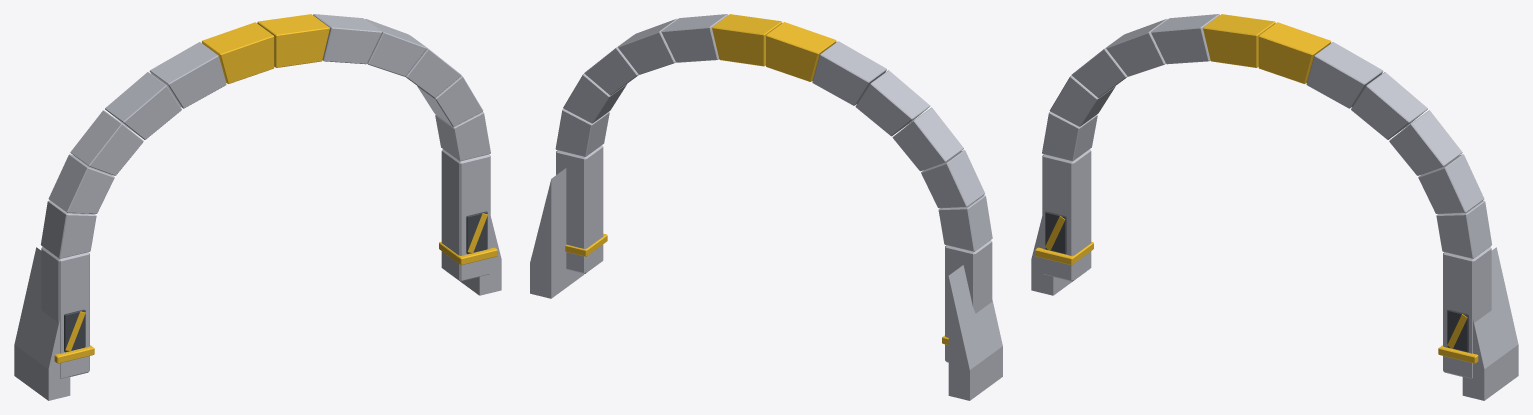
File: Tunnel_Portal.fbx
3 views of the same model, side by side, from view 1: azimuth 30°, elevation 25°; view 2: azimuth 150°, elevation 25°; view 3: azimuth 330°, elevation 25° (orthographic). The views are drawn at different scales.
Parts seen in each view (by area): view 1: Tunnel_Portal; view 2: Tunnel_Portal; view 3: Tunnel_Portal.
Part boxes in pixels (x1,y1,x2,y2): Tunnel_Portal: (14, 14, 501, 400); Tunnel_Portal: (530, 14, 1002, 400); Tunnel_Portal: (1031, 14, 1518, 400).
Bounding box in the file's own units: 1572 × 1030 × 222.
